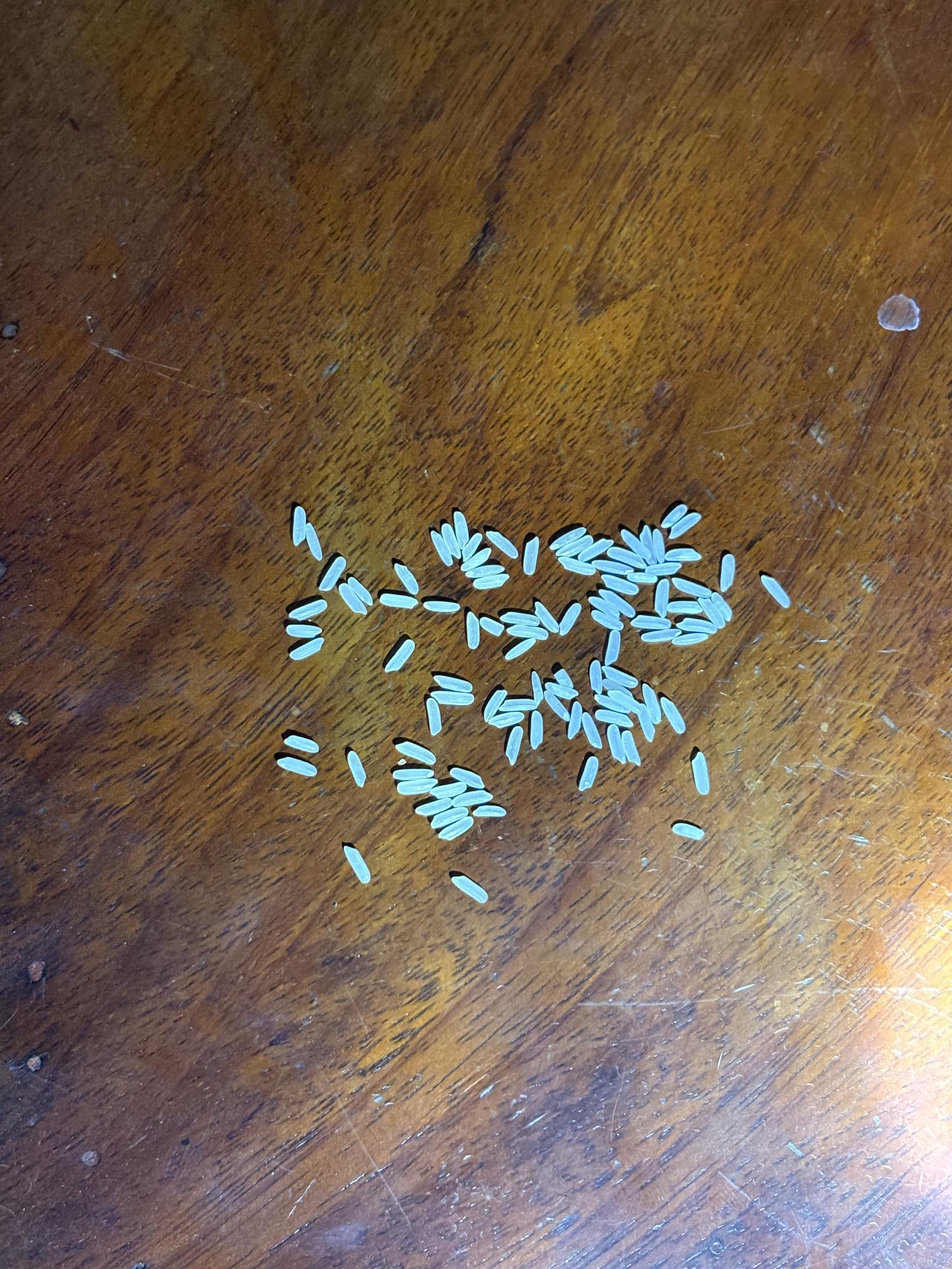Rice-th-y-nh: (621, 529, 652, 563), (344, 846, 371, 883), (452, 876, 488, 902), (386, 640, 414, 672), (661, 698, 686, 733), (762, 576, 790, 607), (320, 558, 346, 591), (603, 591, 636, 617), (396, 742, 435, 764), (487, 531, 518, 557), (339, 584, 365, 614), (551, 527, 586, 549), (669, 514, 701, 538), (277, 757, 317, 776), (581, 712, 602, 748), (431, 807, 467, 828), (609, 547, 645, 568), (394, 564, 419, 594), (544, 690, 569, 720), (699, 598, 724, 628), (579, 539, 613, 561), (290, 638, 324, 660), (439, 817, 473, 839), (535, 602, 559, 633), (643, 684, 662, 723), (673, 578, 711, 597), (347, 751, 367, 787), (692, 753, 709, 795), (483, 690, 506, 721), (559, 603, 581, 635), (290, 600, 327, 619), (596, 709, 633, 728), (348, 577, 373, 605), (557, 537, 592, 557), (431, 532, 452, 565), (603, 666, 636, 687), (461, 549, 491, 572), (602, 575, 638, 594), (609, 691, 640, 713), (305, 523, 323, 560), (451, 768, 484, 788), (441, 524, 461, 557), (396, 779, 437, 795), (505, 639, 536, 660), (589, 598, 620, 619), (622, 731, 641, 765), (579, 757, 598, 791), (637, 704, 654, 741), (607, 725, 624, 762), (506, 727, 523, 764), (677, 617, 716, 633), (453, 790, 492, 806), (508, 624, 547, 640), (559, 558, 595, 575), (567, 701, 583, 739), (435, 676, 473, 692), (431, 691, 474, 705), (631, 615, 671, 630), (592, 611, 623, 630), (285, 735, 319, 752), (595, 695, 629, 712), (416, 799, 452, 815), (426, 698, 442, 734), (662, 505, 687, 528), (712, 592, 732, 620), (654, 580, 669, 617), (524, 537, 539, 574), (720, 554, 735, 591), (465, 564, 504, 578), (642, 629, 681, 643), (546, 683, 578, 700), (432, 782, 466, 798), (593, 560, 629, 575), (501, 612, 539, 626), (673, 823, 704, 840), (462, 534, 482, 560), (292, 507, 306, 544), (490, 712, 524, 727), (454, 512, 469, 546), (381, 594, 417, 608), (473, 575, 509, 589), (530, 711, 543, 749), (672, 633, 710, 646), (606, 630, 620, 664), (394, 768, 433, 780), (466, 612, 479, 648), (500, 698, 536, 711), (287, 625, 322, 638), (646, 563, 681, 576), (652, 530, 666, 562), (480, 618, 504, 636), (665, 549, 701, 561), (589, 661, 602, 694), (640, 525, 654, 554), (668, 601, 701, 613), (531, 672, 543, 705), (602, 679, 630, 693), (424, 601, 459, 612), (555, 669, 574, 688), (474, 805, 506, 816), (628, 572, 657, 584), (2, 324, 17, 336)
